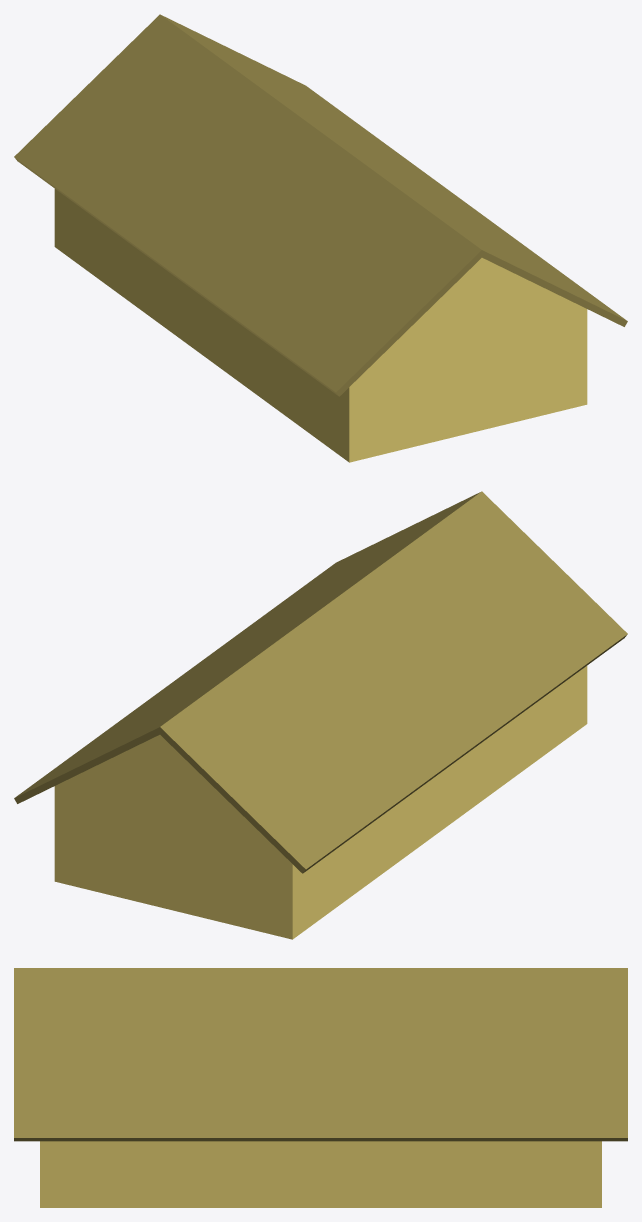
The model's file is result.glb.
3 views of the same model, one above another, from view 1: azimuth 30°, elevation 25°; view 2: azimuth 150°, elevation 25°; view 3: azimuth 270°, elevation 25° (orthographic). The views are drawn at different scales.
Visible parts, largest first — view 1: 32b86327-386e-42a9-8017-9b909ee5b716__undefined (×2), a9db3652-c73e-405c-b35e-b1bba647dc3d__undefined; view 2: 32b86327-386e-42a9-8017-9b909ee5b716__undefined (×2), a9db3652-c73e-405c-b35e-b1bba647dc3d__undefined; view 3: 32b86327-386e-42a9-8017-9b909ee5b716__undefined, a9db3652-c73e-405c-b35e-b1bba647dc3d__undefined.
Part boxes in pixels (bbox=[...]): 32b86327-386e-42a9-8017-9b909ee5b716__undefined (×2): bbox=[14, 14, 627, 396]; a9db3652-c73e-405c-b35e-b1bba647dc3d__undefined: bbox=[54, 189, 587, 462]; 32b86327-386e-42a9-8017-9b909ee5b716__undefined (×2): bbox=[14, 491, 627, 873]; a9db3652-c73e-405c-b35e-b1bba647dc3d__undefined: bbox=[54, 666, 587, 939]; 32b86327-386e-42a9-8017-9b909ee5b716__undefined: bbox=[14, 968, 627, 1141]; a9db3652-c73e-405c-b35e-b1bba647dc3d__undefined: bbox=[40, 1141, 601, 1207].
Bounding box in the file's own units: 1225 × 776 × 2339.
